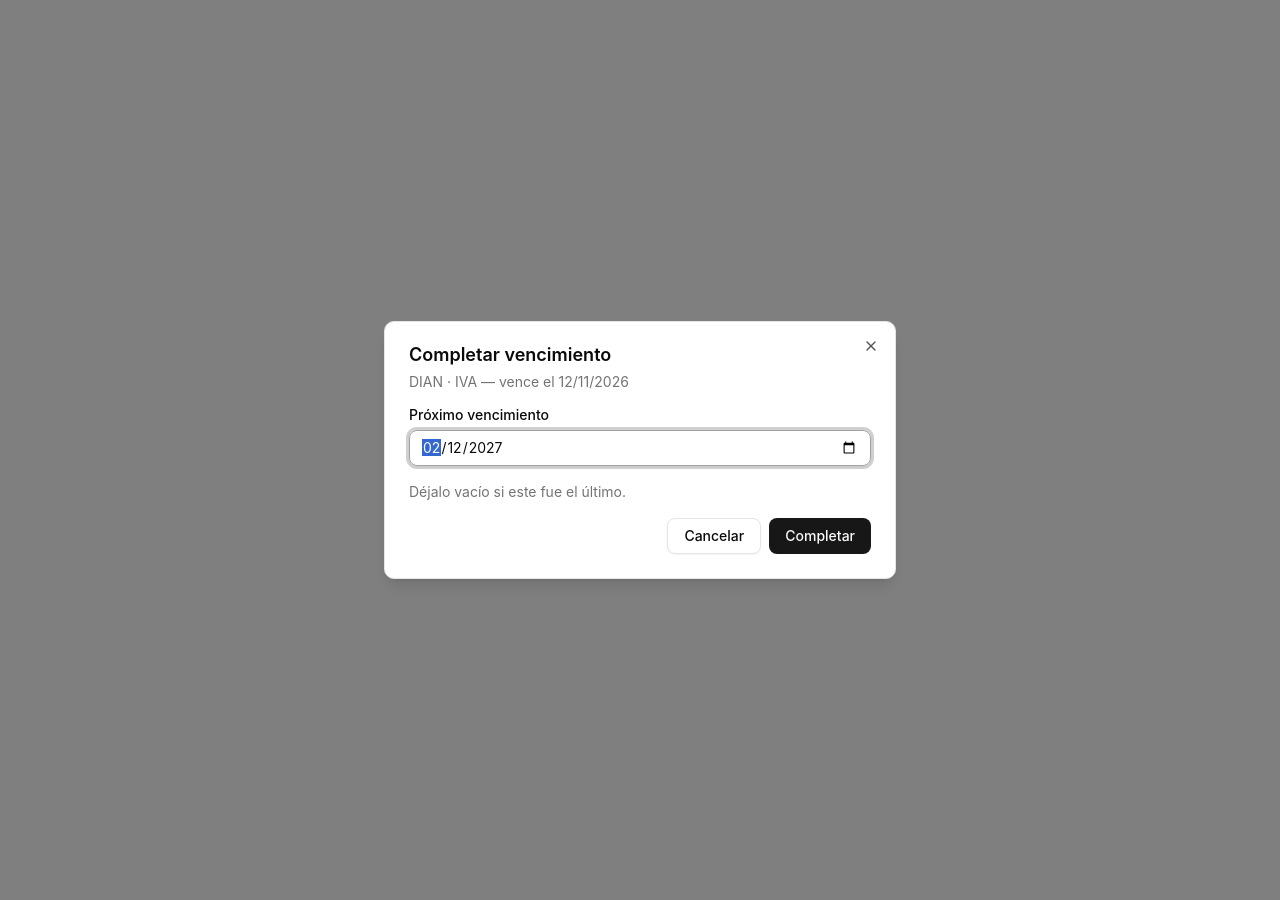
Test: CompleteDueDateDialog (F13 CA-20) › si otra persona ya lo completó, muestra el mensaje y refresca la agenda
What coordinates should you click on to do the following:
click the button "Completar"
I would click on:
 (820, 536)
Its box is top-left (769, 518), bottom-right (871, 554).
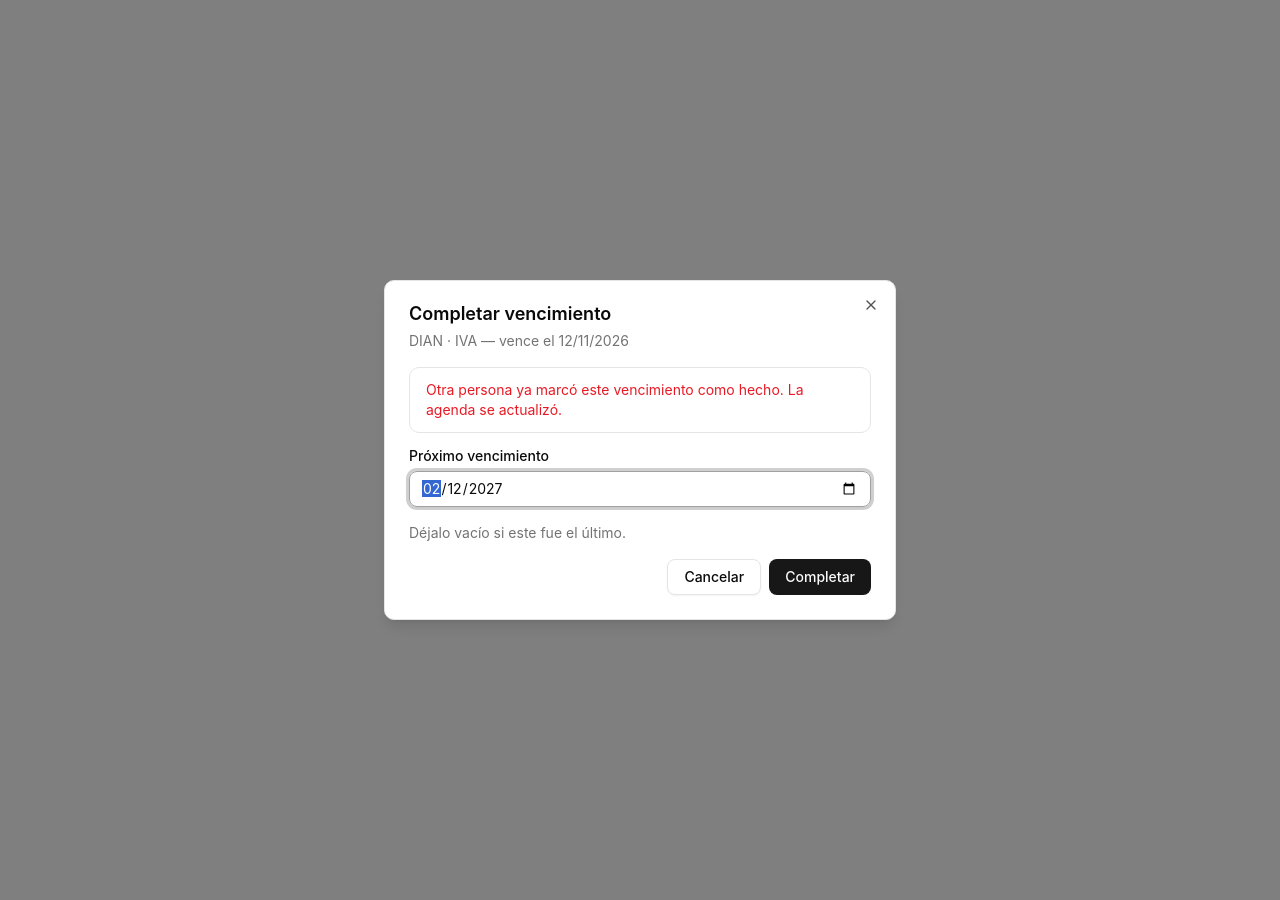
Expected: the text "Otra persona ya marcó este vencimiento" is shown, top-left (426, 381), bottom-right (804, 418)
